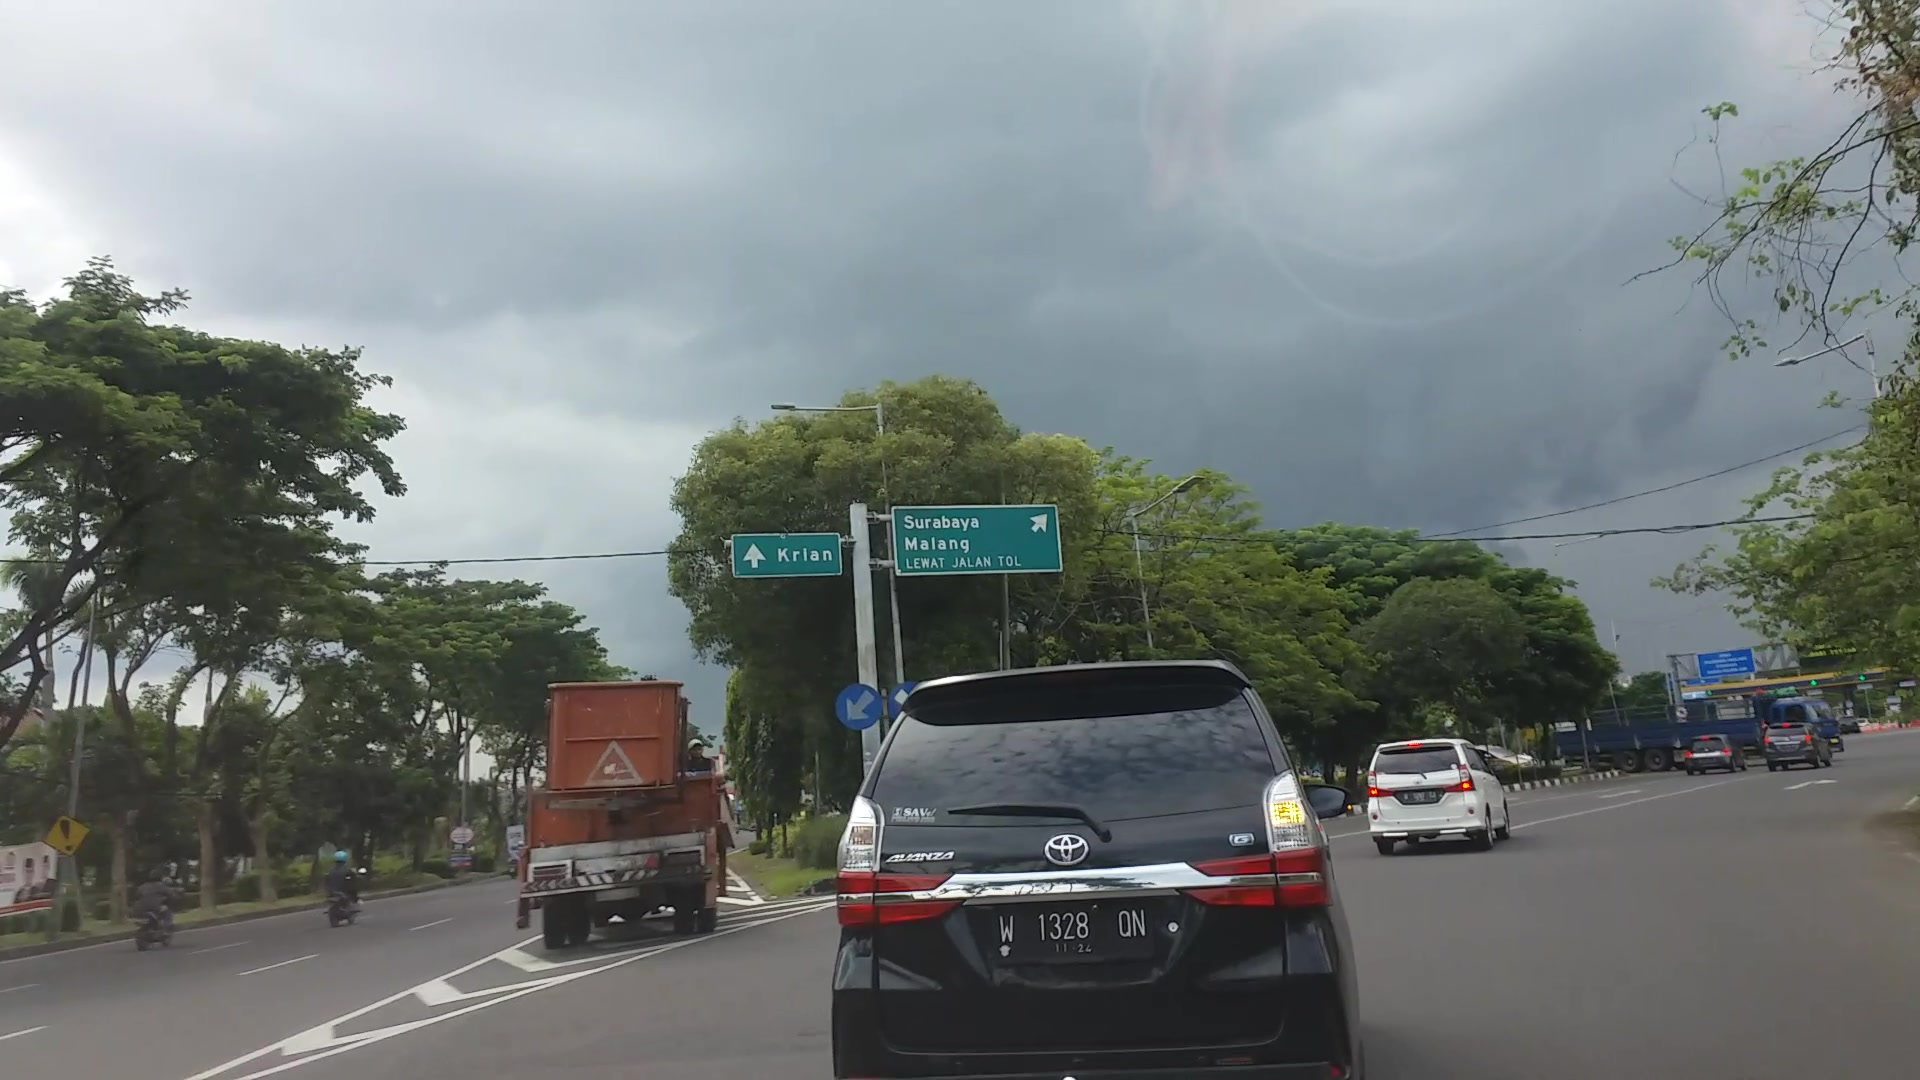plate_positive: (993, 905, 1154, 964)
